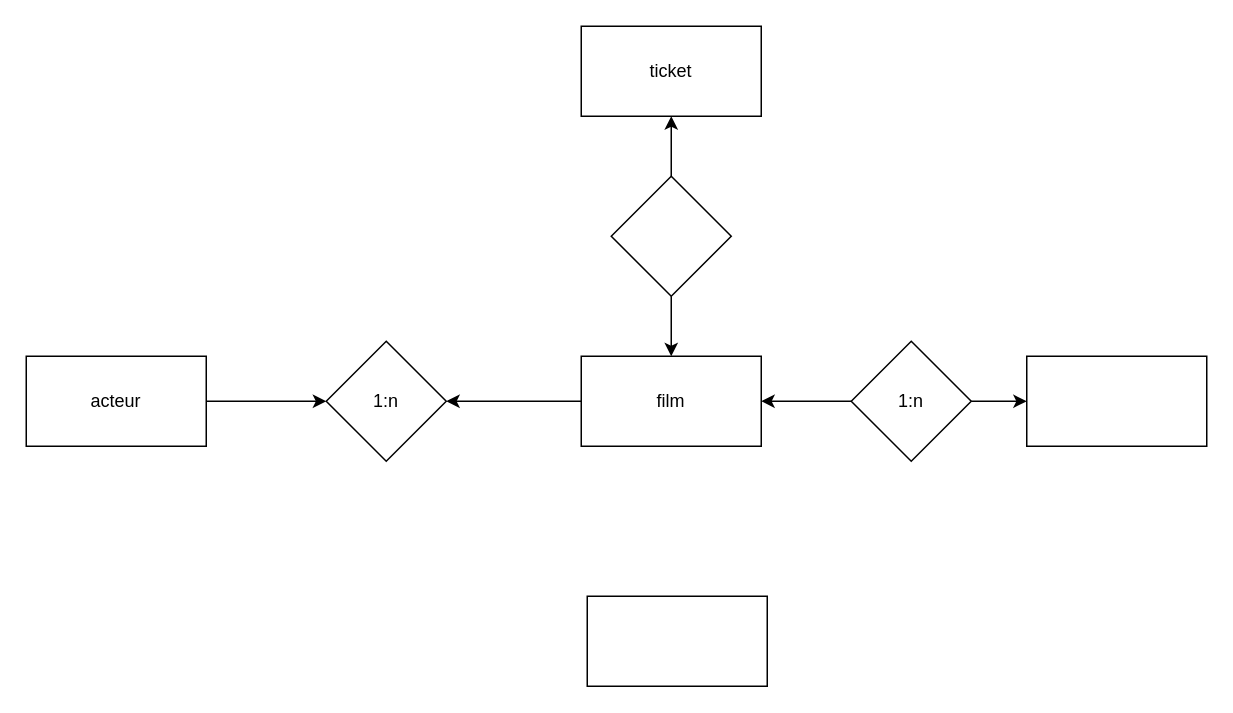
The diagram is 1233 pixels wide and 713 high, and some of its shapes have lost their labels. The centre of each missing label's shape, as x and y in pixels:
"genre" goes at point 1116,400.
"klant" goes at point 676,640.
"n:1" goes at point 670,235.
